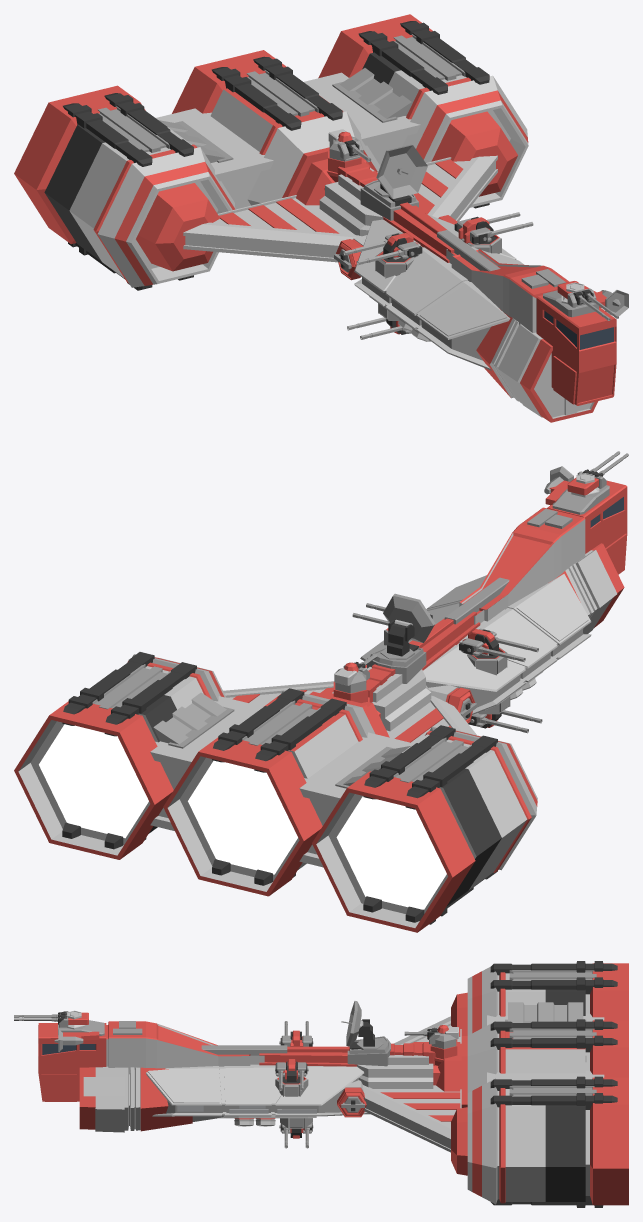
Rendered from sw_consular_cruiser.glb.
The picture shows the model from 3 angles, top to bottom: view 1: azimuth 30°, elevation 25°; view 2: azimuth 150°, elevation 25°; view 3: azimuth 270°, elevation 25°; orthographic projection. The views are drawn at different scales.
Visible parts, largest first — view 1: Cube.001_Base_0, Cube.001_Red_0, Cube.001_Base2_0, Cube.001_B;ack_0, Cube.001_Glass_0; view 2: Cube.001_Base_0, Cube.001_Red_0, Cube.001_Engine_0, Cube.001_Base2_0, Cube.001_B;ack_0; view 3: Cube.001_Base_0, Cube.001_Red_0, Cube.001_B;ack_0, Cube.001_Base2_0, Cube.001_Glass_0.
Boxes of the visible parts, bbox=[...] form: Cube.001_Base_0: bbox=[69, 70, 594, 418]; Cube.001_Red_0: bbox=[14, 14, 616, 422]; Cube.001_Base2_0: bbox=[98, 34, 628, 360]; Cube.001_B;ack_0: bbox=[44, 21, 593, 334]; Cube.001_Glass_0: bbox=[544, 311, 613, 349]; Cube.001_Base_0: bbox=[18, 473, 617, 927]; Cube.001_Red_0: bbox=[14, 477, 627, 932]; Cube.001_Engine_0: bbox=[39, 724, 446, 909]; Cube.001_Base2_0: bbox=[92, 451, 628, 788]; Cube.001_B;ack_0: bbox=[62, 469, 602, 924]; Cube.001_Base_0: bbox=[67, 966, 604, 1204]; Cube.001_Red_0: bbox=[38, 963, 628, 1205]; Cube.001_B;ack_0: bbox=[58, 961, 617, 1207]; Cube.001_Base2_0: bbox=[14, 970, 596, 1148]; Cube.001_Glass_0: bbox=[42, 1044, 95, 1054].
Size of the model in its own units: 1.09 by 0.3991 by 1.68.
